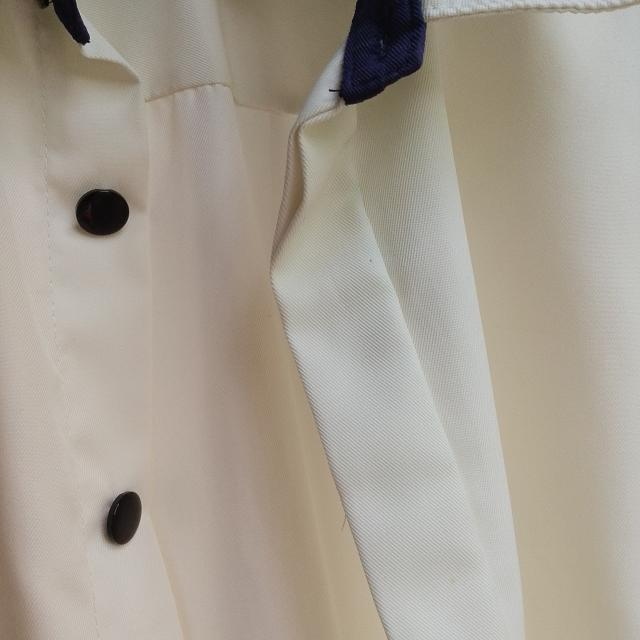education_male_uniform: (0, 1, 526, 640)
